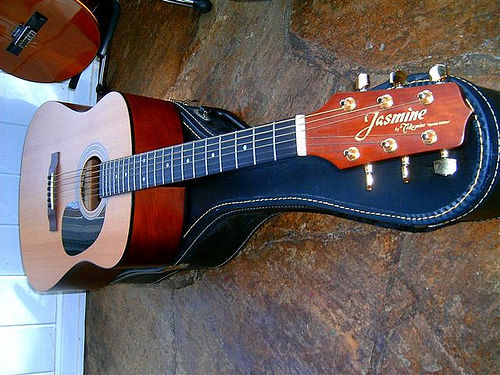guitar: (18, 76, 480, 299)
